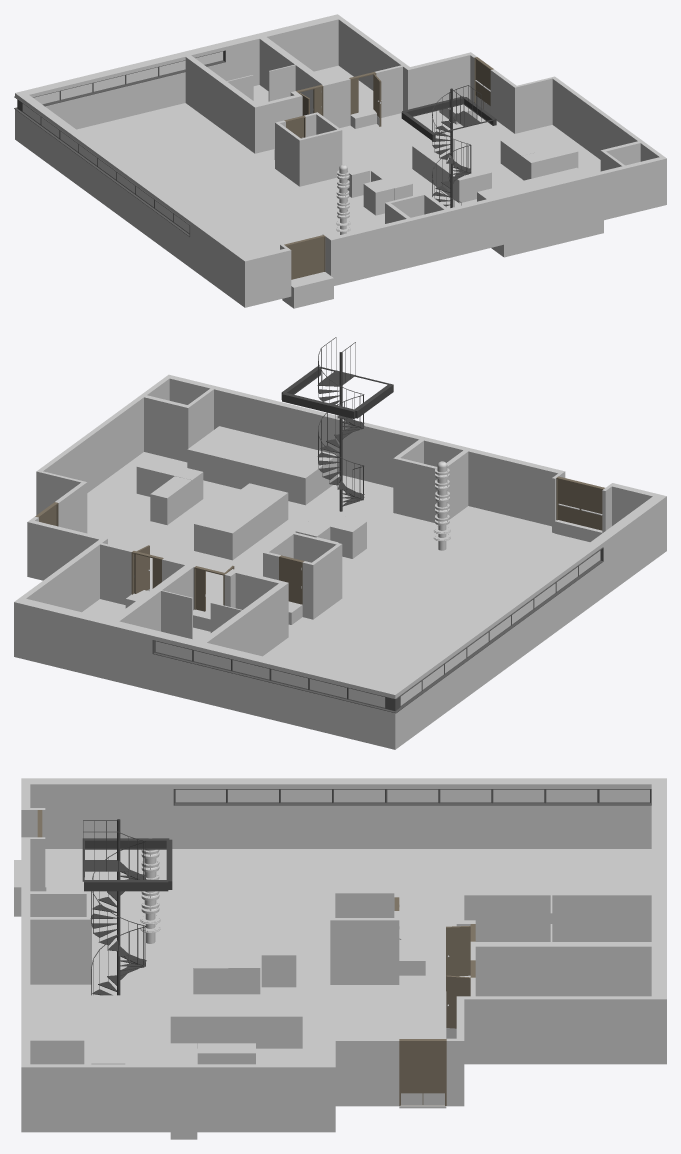
The model's file is Pilot Plant Draft.fbx.
3 renders of one model, top to bottom at view 1: azimuth 30°, elevation 25°; view 2: azimuth 150°, elevation 25°; view 3: azimuth 270°, elevation 25°, orthographic. The views are drawn at different scales.
Visible parts, largest first — view 1: Main Walls, First Floor, Exterior Windows, Doors, Cube.009, Cube.007, Spiral Staircase, Cube.008, Cube.010, Exterior Window Frames, Spiral Staircase.001, Ditillation tower bottom (+4 smaller); view 2: Main Walls, First Floor, Cube.007, Cube.009, Exterior Windows, Doors, Cube.008, Spiral Staircase, Exterior Window Frames, Cube.010, Spiral Staircase.001, Ditillation tower bottom (+1 smaller); view 3: Main Walls, First Floor, Cube.009, Exterior Windows, Cube.010, Doors, Cube.007, Spiral Staircase, Exterior Window Frames, Spiral Staircase.001, Cube.008, Ditillation tower bottom (+3 smaller).
Part boxes in pixels (box(x1,y1,x2,y2)): Main Walls: box(15, 14, 666, 307); First Floor: box(76, 65, 600, 256); Exterior Windows: box(22, 51, 222, 233); Doors: box(286, 60, 490, 279); Cube.009: box(412, 138, 491, 203); Cube.007: box(477, 167, 603, 257); Spiral Staircase: box(432, 85, 481, 207); Cube.008: box(500, 137, 578, 180); Cube.010: box(345, 161, 412, 215); Exterior Window Frames: box(14, 50, 225, 236); Spiral Staircase.001: box(401, 96, 496, 140); Ditillation tower bottom: box(336, 164, 350, 234); Main Walls: box(14, 374, 666, 749); First Floor: box(82, 452, 589, 687); Cube.007: box(187, 426, 337, 505); Cube.009: box(194, 483, 288, 560); Exterior Windows: box(155, 551, 600, 707); Doors: box(39, 479, 602, 611); Cube.008: box(136, 458, 203, 525); Spiral Staircase: box(317, 337, 364, 511); Exterior Window Frames: box(152, 547, 603, 713); Cube.010: box(295, 511, 366, 558); Spiral Staircase.001: box(281, 366, 393, 418); Ditillation tower bottom: box(433, 461, 450, 550); Main Walls: box(21, 778, 666, 1132); First Floor: box(30, 849, 651, 1064); Cube.009: box(170, 994, 302, 1048); Exterior Windows: box(175, 789, 649, 802); Cube.010: box(193, 942, 296, 994); Doors: box(400, 925, 470, 1105); Cube.007: box(49, 995, 125, 1064); Spiral Staircase: box(82, 819, 146, 995); Exterior Window Frames: box(173, 789, 651, 805); Spiral Staircase.001: box(82, 838, 172, 891); Cube.008: box(170, 1043, 255, 1139); Ditillation tower bottom: box(140, 838, 160, 943).
Bounding box in the file's own units: 1936 × 688 × 1845.
